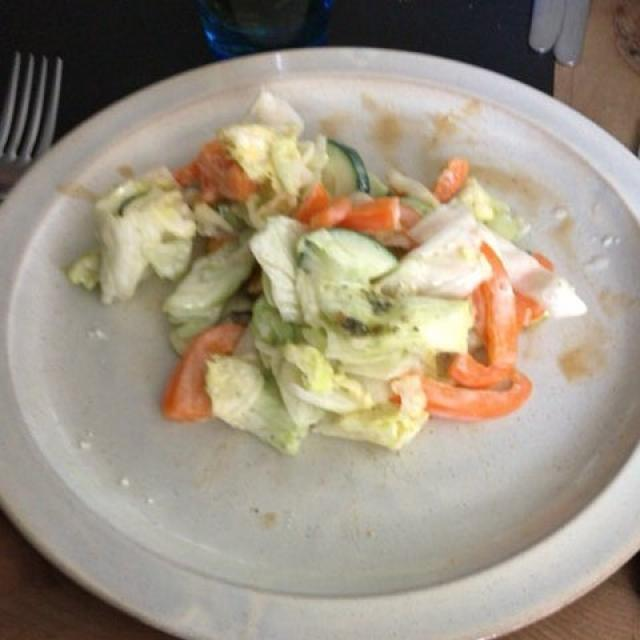bell-pepper: (160, 135, 467, 424)
cucumber: (171, 138, 386, 319)
salad: (69, 99, 566, 442)
